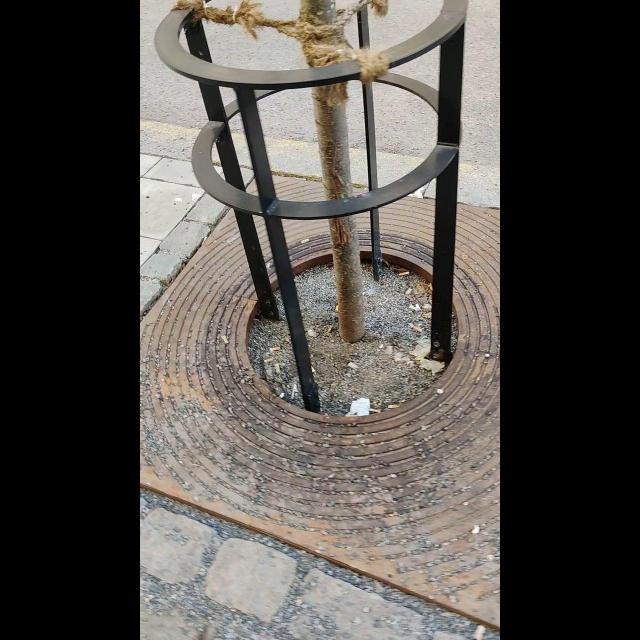cigarette: (471, 624, 486, 639), (346, 360, 360, 370), (369, 406, 382, 414), (413, 324, 423, 333), (269, 346, 281, 353), (263, 357, 275, 364), (386, 404, 403, 408), (399, 271, 410, 277), (220, 336, 228, 344), (200, 237, 207, 246), (334, 304, 339, 314)
